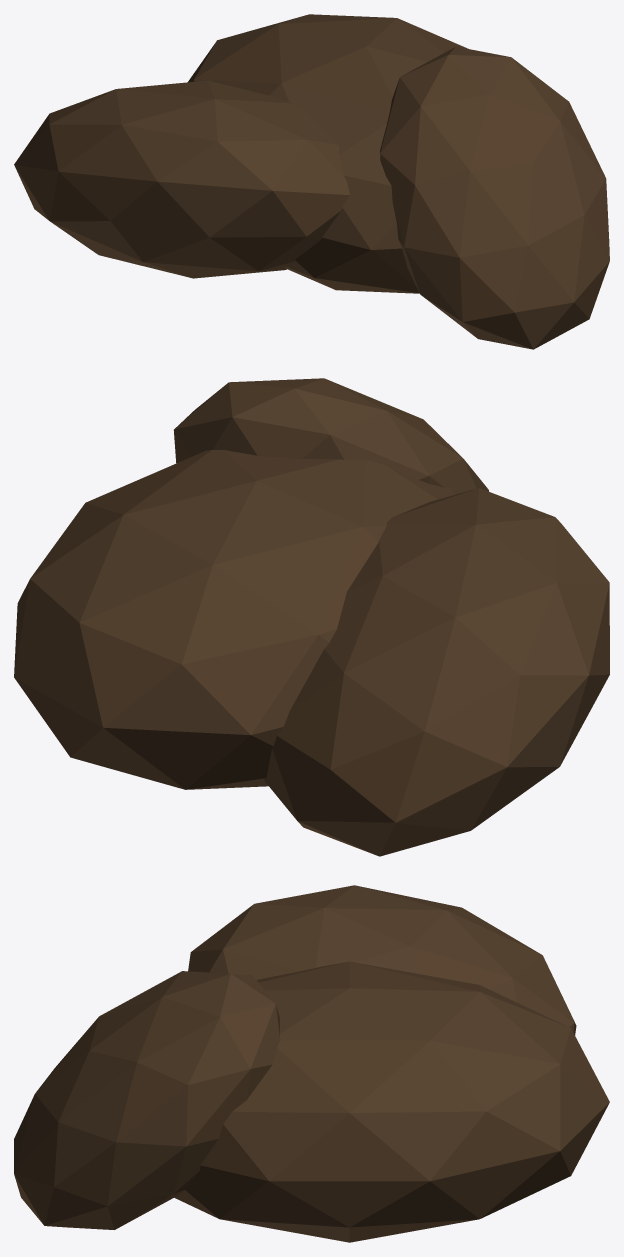
File: Rock.fbx
3 views of the same model, one above another, from view 1: azimuth 30°, elevation 25°; view 2: azimuth 150°, elevation 25°; view 3: azimuth 270°, elevation 25° (orthographic). The views are drawn at different scales.
Parts seen in each view (by area): view 1: Rock; view 2: Rock; view 3: Rock.
Part boxes in pixels (<box>): Rock: <box>14,14,609,349</box>; Rock: <box>14,378,609,856</box>; Rock: <box>14,885,609,1242</box>.
Size of the model in its own units: 207 by 108 by 229.
